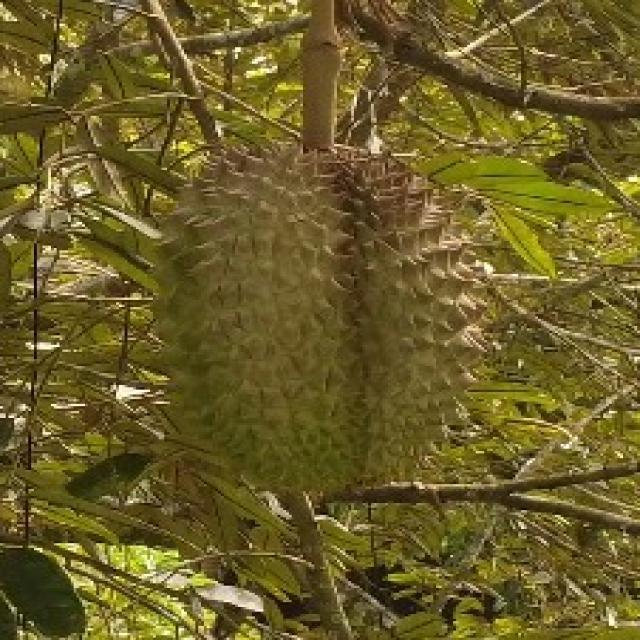mature: (157, 142, 493, 500)
